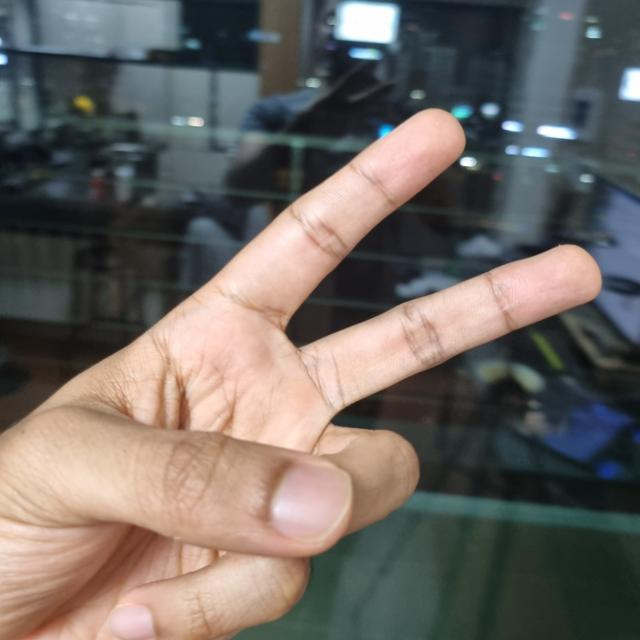Scissors: (2, 112, 597, 640)
